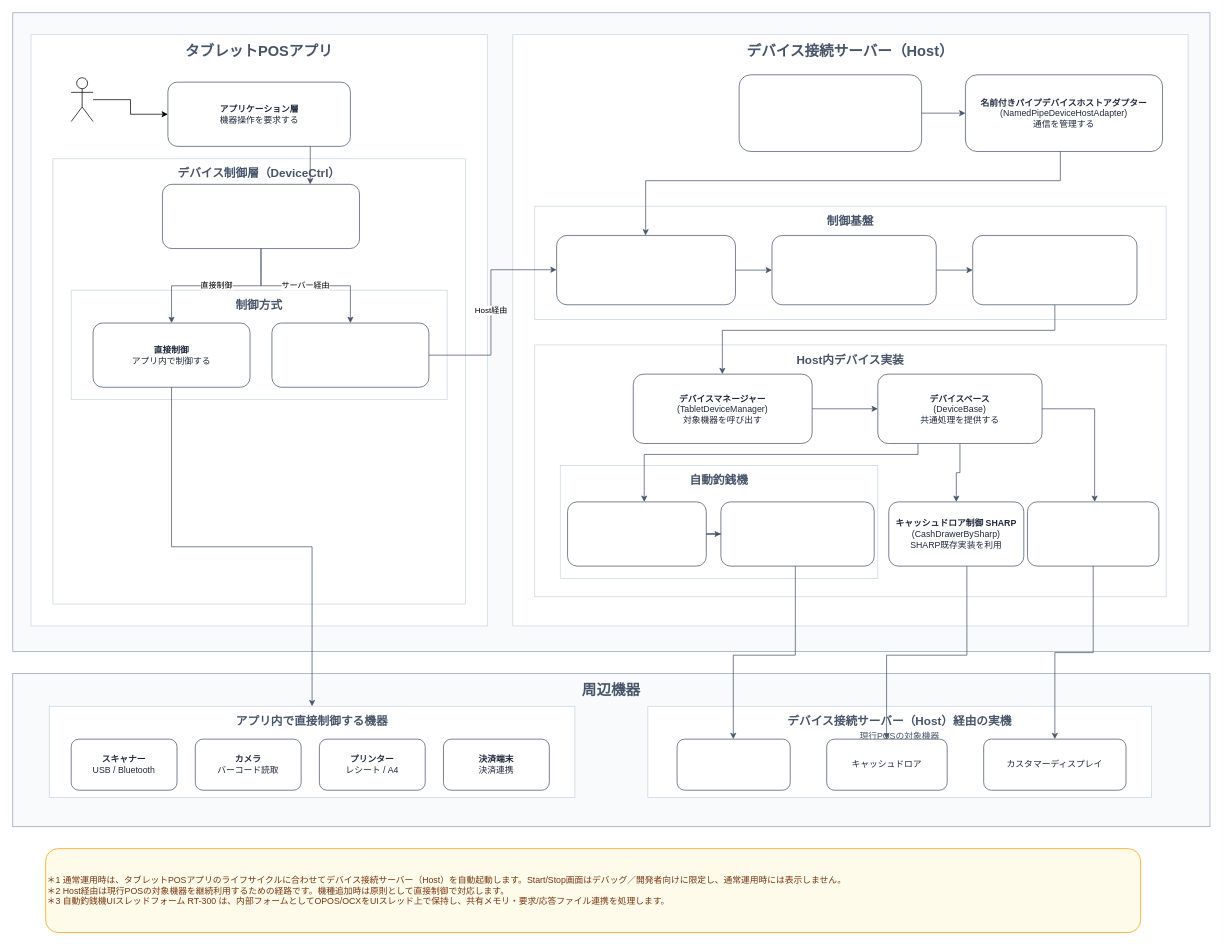
Some shapes in this 1223 by 945 pixel diagram are drawn without their labels. The shapes that lost their labels are listed below. From the top down, each one's centre as x and y in pixels, then its label:
At (81,99): "Actor".
At (830,112): "デバイスサーバーホスト (TabletHost) 起動・停止を管理する".
At (261,216): "DeviceManager / Config / Factory 機器ごとの制御方式を決定する".
At (645,270): "名前付きパイプコマンドサーバー (NamedPipeCommandServer) 要求を受け付ける".
At (853,270): "デバイスコマンドルーター (DeviceCommandRouter) 要求を振り分ける".
At (1054,270): "デバイスコマンドハンドラー (DeviceCommandHandler) 機器操作を実行する".
At (350,354): "NamedPipeClient サーバー経由が必要な機器を送信する".
At (636,533): "釣銭機制御 RT-300 (CashChangerByRt300) 既存実装を継続利用".
At (797,533): "自動釣銭機UIスレッドフォーム (CashChangerByRt300Form) OPOSイベント・周期監視を処理する ＊3".
At (1093,533): "カスタマーディスプレイ制御 SHARP (CustomerDisplayBySharp) SHARP既存実装を利用".
At (733,764): "釣銭機".
